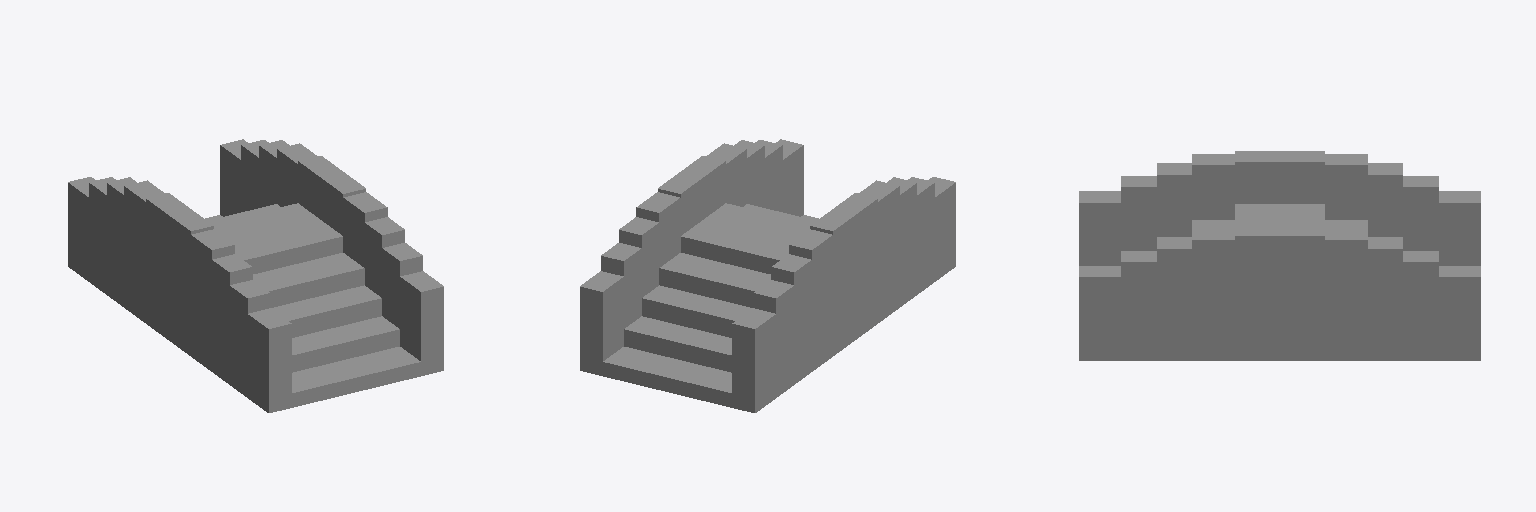
The model's file is bridge.obj.
3 views of the same model, side by side, from view 1: azimuth 30°, elevation 25°; view 2: azimuth 150°, elevation 25°; view 3: azimuth 270°, elevation 25° (orthographic).
Parts seen in each view (by area): view 1: Cube; view 2: Cube; view 3: Cube.
Boxes of the visible parts, x1=… form: Cube: x1=68, y1=139, x2=443, y2=412; Cube: x1=580, y1=139, x2=955, y2=412; Cube: x1=1079, y1=151, x2=1480, y2=360.
Size of the model in its own units: 1.38 by 0.9371 by 2.73.